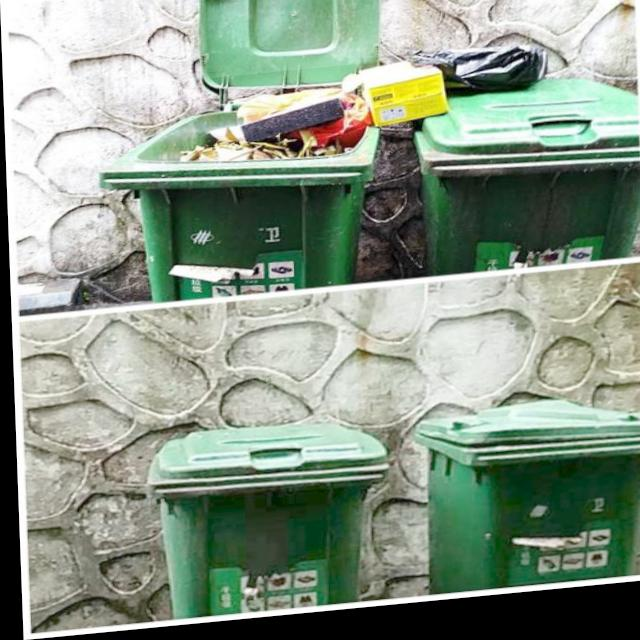garbage_bin: (144, 421, 387, 621), (407, 402, 640, 602)
overflow: (95, 69, 387, 309), (361, 45, 640, 289)
